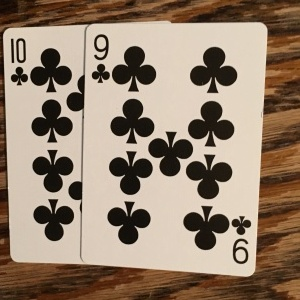card: (81, 23, 267, 277), (2, 25, 85, 268)
